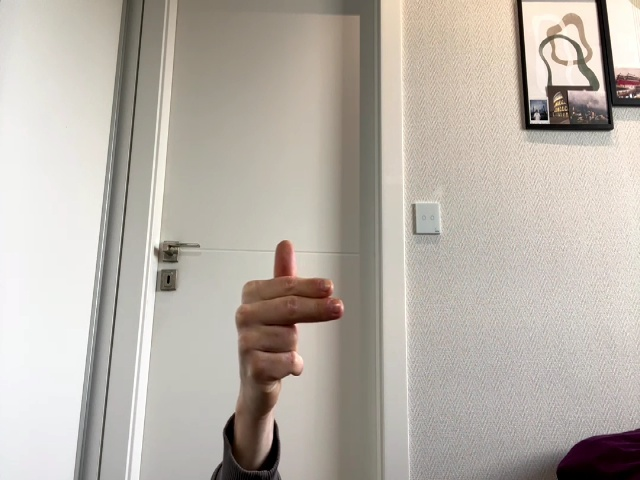N: (234, 239, 344, 402)
